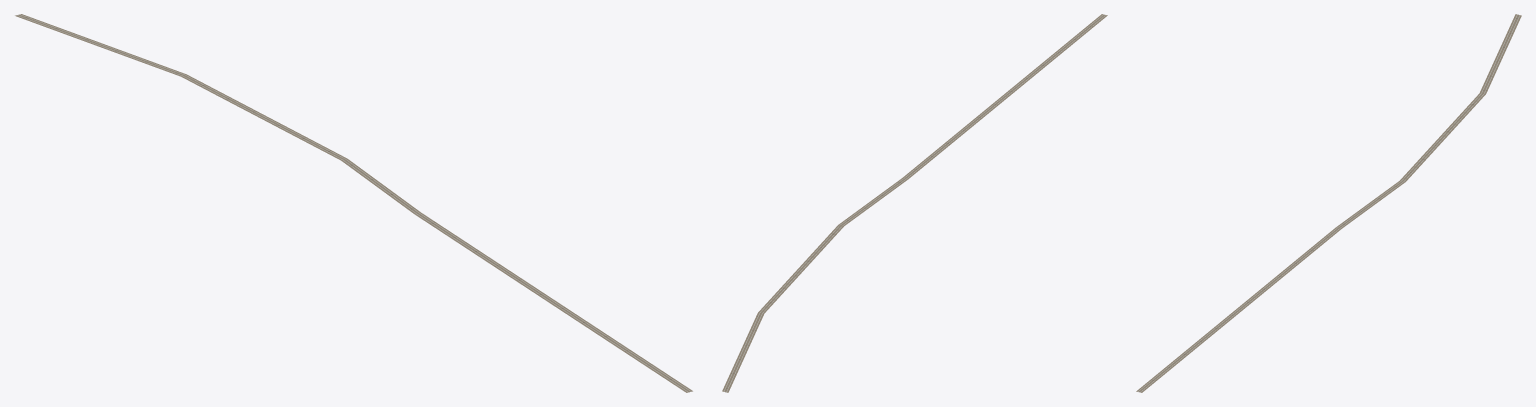
The picture shows the model from 3 angles, left to right: view 1: azimuth 30°, elevation 25°; view 2: azimuth 150°, elevation 25°; view 3: azimuth 330°, elevation 25°; orthographic projection. The views are drawn at different scales.
Visible parts, largest first — view 1: rail; view 2: rail; view 3: rail.
Boxes of the visible parts, left/top/right/bottom form: rail: left=15, top=14, right=692, bottom=392; rail: left=722, top=14, right=1107, bottom=392; rail: left=1136, top=14, right=1521, bottom=392.
Size of the model in its own units: 64.82 by 0.04 by 500.
